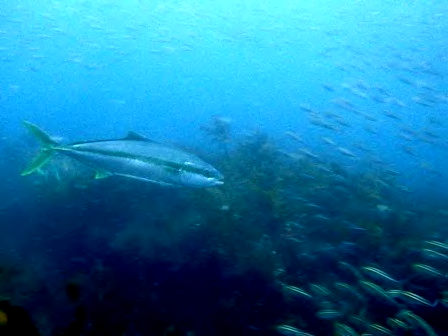hamati: (14, 111, 237, 211)
